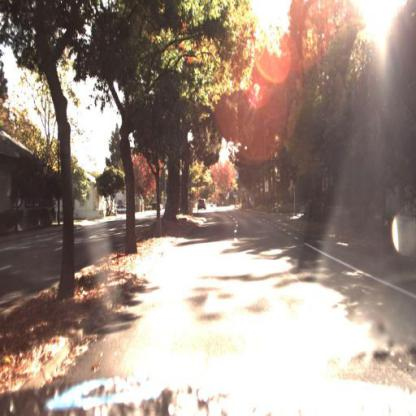car: (113, 201, 131, 217), (198, 197, 207, 213)
trafficLight: (230, 186, 240, 200)
